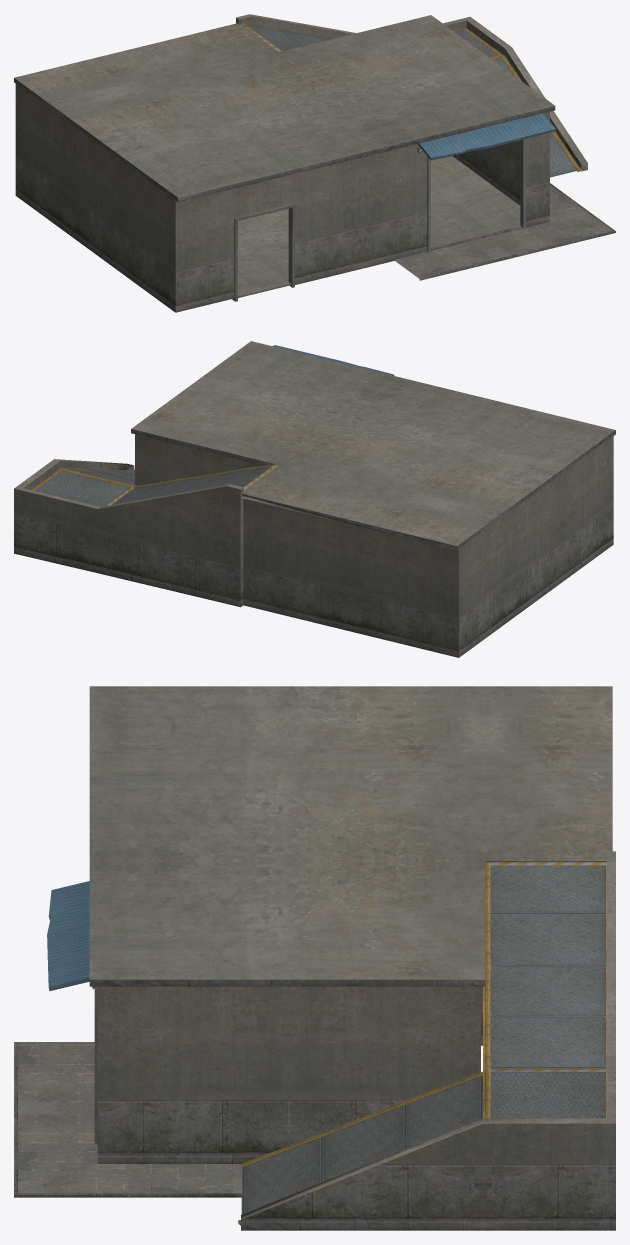
Rendered from Building_HeiygcFz03_2048.glb.
The picture shows the model from 3 angles, top to bottom: view 1: azimuth 30°, elevation 25°; view 2: azimuth 150°, elevation 25°; view 3: azimuth 270°, elevation 25°; orthographic projection. The views are drawn at different scales.
Parts seen in each view (by area): view 1: xiutz_heiygc_fz_03; view 2: xiutz_heiygc_fz_03; view 3: xiutz_heiygc_fz_03.
Boxes of the visible parts, x1=… form: xiutz_heiygc_fz_03: x1=14, y1=14, x2=615, y2=312; xiutz_heiygc_fz_03: x1=14, y1=341, x2=615, y2=657; xiutz_heiygc_fz_03: x1=14, y1=686, x2=615, y2=1230.
Size of the model in its own units: 22.07 by 6.3 by 15.79.
1 material, 1 textured.
